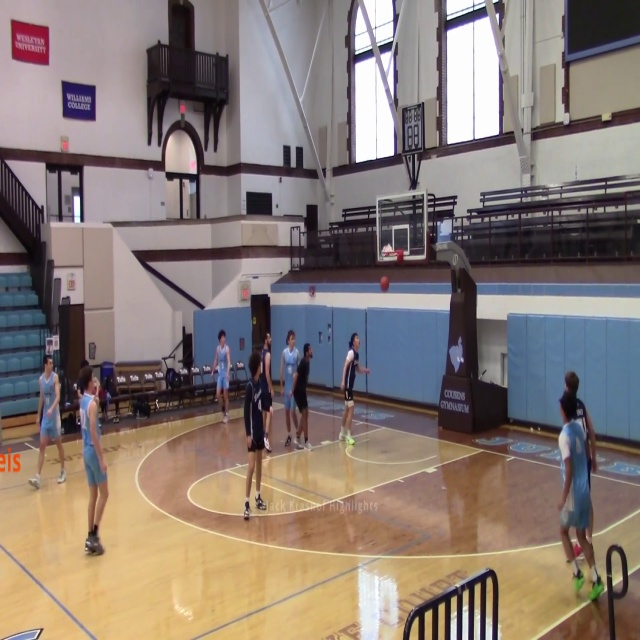Basketball: (380, 276, 389, 291)
